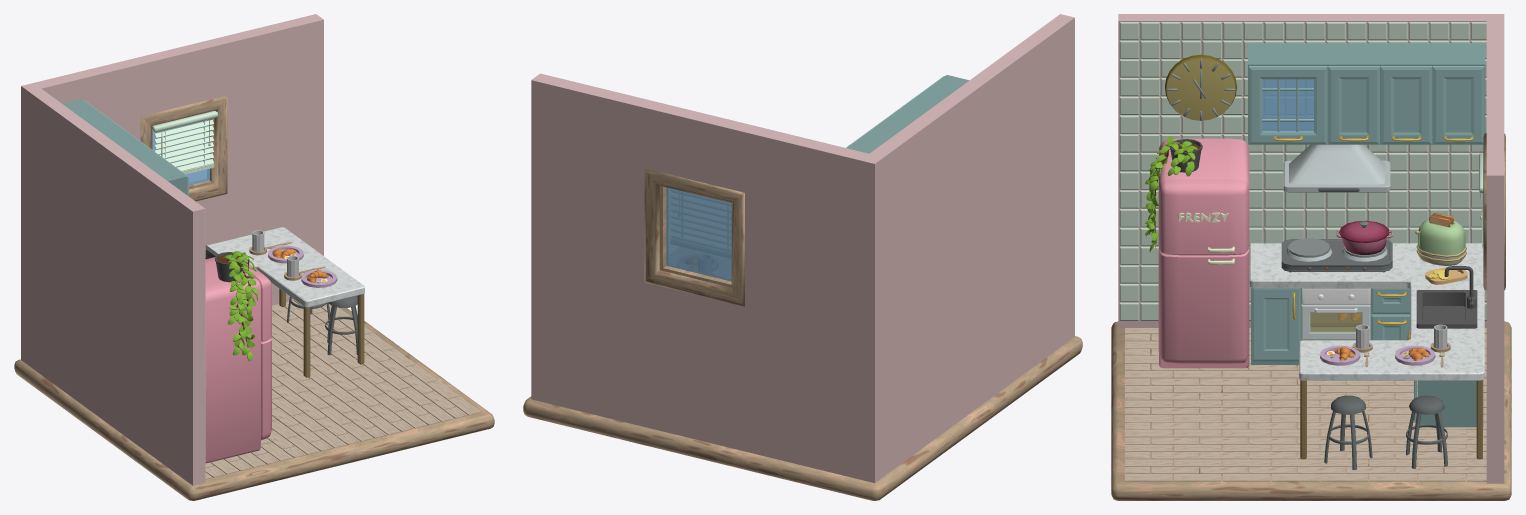
Rendered from kitchen.glb.
3 renders of one model, left to right at view 1: azimuth 30°, elevation 25°; view 2: azimuth 150°, elevation 25°; view 3: azimuth 270°, elevation 25°, orthographic. The views are drawn at different scales.
Visible parts, largest first — view 1: wall_left_145, wall_right_146, main_wood_floor_144, parquet1_140, freezer_103, parquet2_141, table_top_65, window_29, Cube.043_18, wall_cabinet_133, parquet3_142, Cube.041_58 (+3 smaller); view 2: wall_right_146, wall_left_145, main_wood_floor_144, window_29, Plane.003_28, wall_cabinet_133, Cube.057_27; view 3: tile_139, parquet1_140, parquet2_141, table_top_65, main_wood_floor_144, Cube.048_123, Cube.039_90, wall_left_145, wall_right_146, Cube.084_91, wall_cabinet_133, Cube.007_119 (+29 smaller).
Boxes of the visible parts, bbox=[...] form: wall_left_145: bbox=[21, 86, 205, 485]; wall_right_146: bbox=[22, 14, 323, 305]; main_wood_floor_144: bbox=[14, 301, 494, 500]; parquet1_140: bbox=[205, 304, 481, 479]; freezer_103: bbox=[205, 257, 260, 463]; parquet2_141: bbox=[205, 300, 455, 467]; table_top_65: bbox=[207, 227, 364, 307]; window_29: bbox=[140, 95, 227, 201]; Cube.043_18: bbox=[154, 118, 213, 171]; wall_cabinet_133: bbox=[65, 101, 183, 178]; parquet3_142: bbox=[205, 407, 467, 477]; Cube.041_58: bbox=[279, 289, 364, 377]; wall_right_146: bbox=[531, 73, 874, 482]; wall_left_145: bbox=[869, 14, 1074, 482]; main_wood_floor_144: bbox=[523, 336, 1082, 500]; window_29: bbox=[644, 168, 744, 306]; Plane.003_28: bbox=[666, 187, 731, 281]; wall_cabinet_133: bbox=[846, 77, 965, 153]; Cube.057_27: bbox=[659, 185, 732, 287]; tile_139: bbox=[1119, 22, 1486, 320]; parquet1_140: bbox=[1125, 328, 1465, 481]; parquet2_141: bbox=[1151, 334, 1486, 474]; table_top_65: bbox=[1249, 243, 1484, 380]; main_wood_floor_144: bbox=[1111, 321, 1511, 500]; Cube.048_123: bbox=[1328, 66, 1484, 144]; Cube.039_90: bbox=[1158, 249, 1249, 364]; wall_left_145: bbox=[1118, 14, 1503, 328]; wall_right_146: bbox=[1486, 14, 1504, 483]; Cube.084_91: bbox=[1158, 179, 1249, 255]; wall_cabinet_133: bbox=[1255, 42, 1477, 71]; Cube.007_119: bbox=[1249, 66, 1327, 144].
Bounding box in the file's own units: 11 × 9.91 × 11.07.
Materials: 51 (14 with a texture image).
